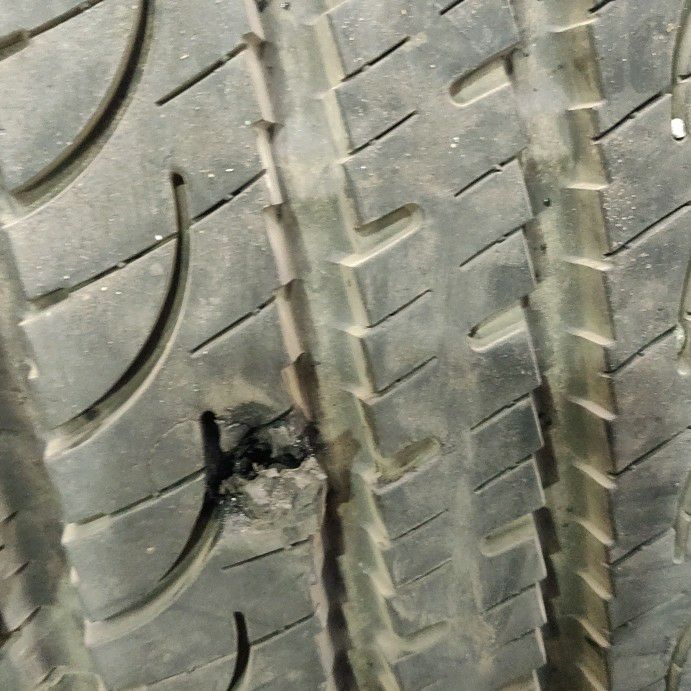tr: (200, 401, 347, 532)
